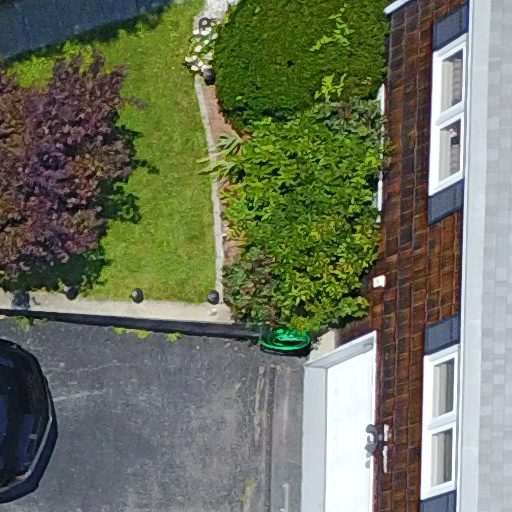hose: (261, 319, 316, 360)
